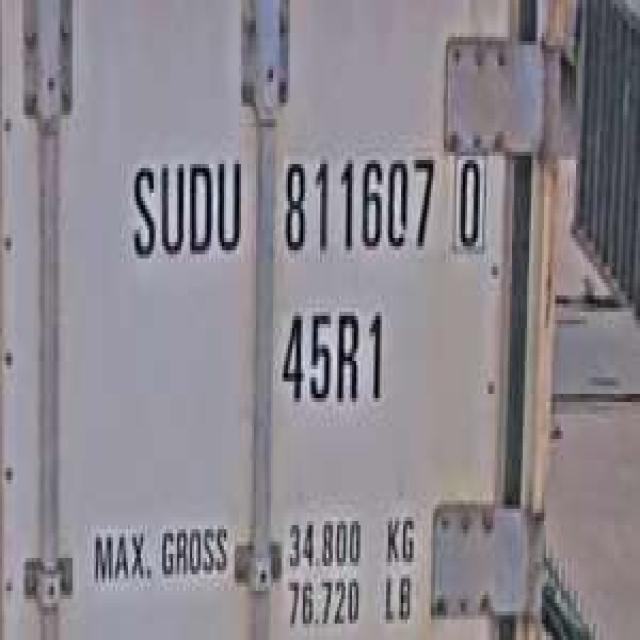dv: (449, 146, 491, 260)
owner: (124, 139, 245, 271)
serial: (276, 135, 438, 271)
size: (276, 292, 390, 418)
